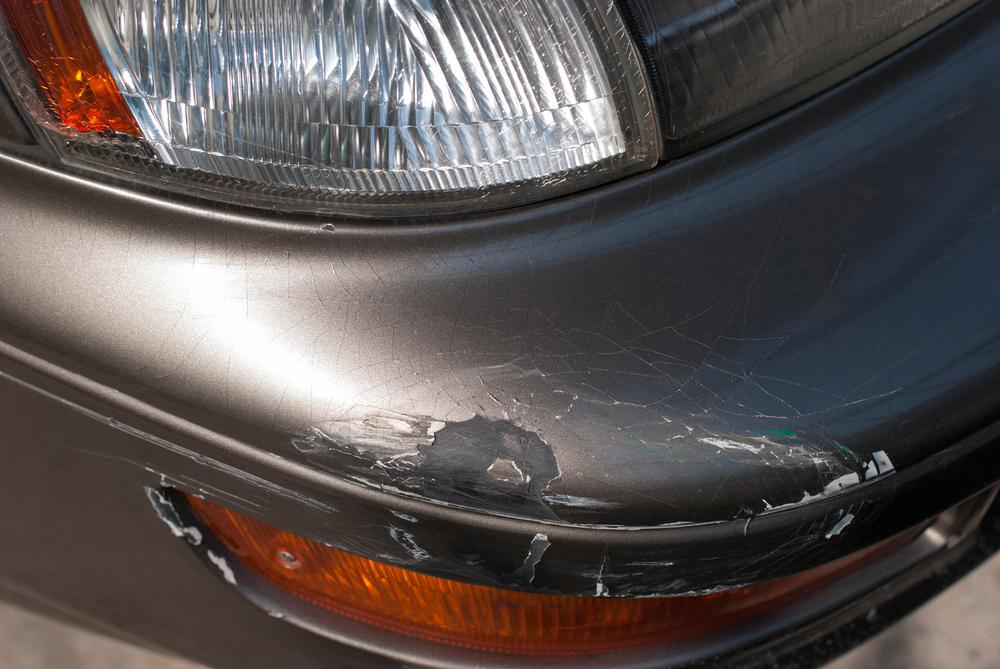scratch: (105, 379, 918, 600)
